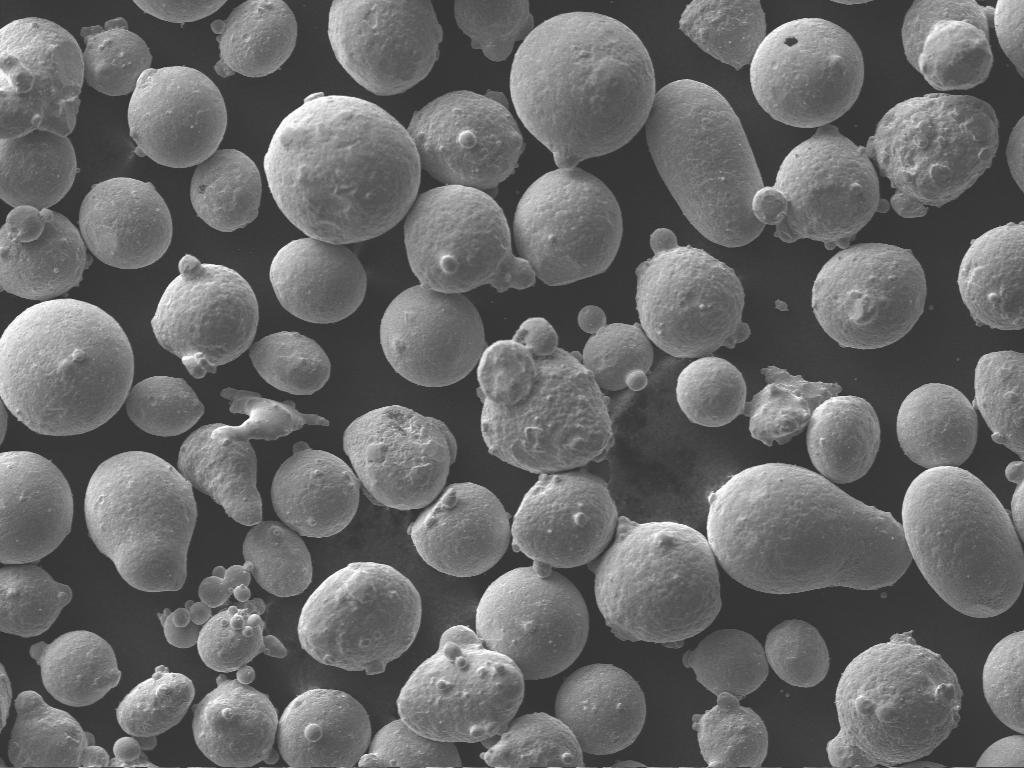Powder: (708, 464, 912, 594), (264, 96, 420, 244), (510, 12, 656, 168), (478, 318, 612, 474), (178, 388, 328, 526), (646, 80, 764, 247), (902, 466, 1024, 618), (0, 298, 134, 436), (826, 632, 962, 766), (588, 516, 722, 648), (866, 94, 998, 218), (84, 452, 198, 592), (752, 124, 878, 248), (636, 228, 750, 358), (398, 626, 524, 742), (404, 184, 536, 294), (298, 562, 422, 675), (152, 254, 258, 378), (476, 566, 588, 680), (514, 168, 622, 285), (750, 18, 864, 128), (812, 244, 926, 349), (408, 90, 524, 193), (344, 406, 456, 510), (328, 0, 442, 96), (382, 286, 486, 386), (0, 18, 84, 137), (128, 68, 226, 167), (408, 482, 510, 577), (78, 178, 172, 268), (902, 0, 994, 91), (0, 452, 74, 564), (0, 206, 88, 300), (270, 238, 366, 324), (556, 664, 646, 753), (158, 562, 251, 648), (194, 674, 278, 766), (744, 366, 840, 446), (274, 448, 360, 537), (198, 600, 286, 684), (276, 690, 372, 766), (958, 222, 1024, 330), (30, 630, 120, 706), (898, 384, 978, 468), (210, 0, 296, 78), (806, 396, 880, 484), (116, 666, 194, 749), (578, 306, 654, 390), (0, 130, 78, 209), (8, 690, 90, 765), (680, 0, 766, 69), (190, 150, 262, 232), (480, 712, 584, 767), (684, 630, 768, 698), (692, 692, 768, 767), (80, 18, 152, 95), (974, 350, 1024, 459), (0, 564, 72, 637), (242, 522, 310, 597), (250, 332, 330, 395), (358, 720, 462, 768), (455, 0, 534, 61), (678, 356, 746, 425), (126, 376, 204, 435), (764, 620, 830, 688), (982, 630, 1024, 733), (985, 0, 1024, 77), (80, 736, 156, 768), (134, 1, 226, 23), (1006, 460, 1024, 541), (976, 736, 1024, 765), (1006, 116, 1024, 191), (1, 664, 12, 729), (774, 300, 788, 311)
